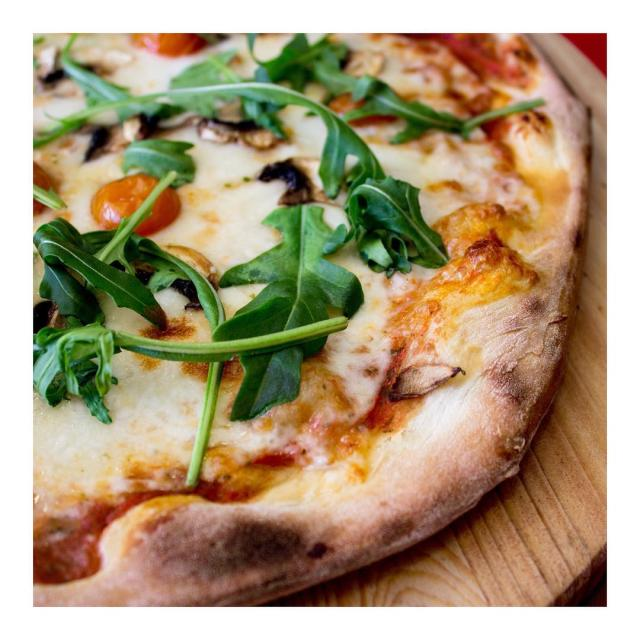mushrooms: (80, 110, 156, 164), (389, 359, 466, 402), (200, 112, 286, 148), (258, 160, 316, 206), (38, 45, 59, 87)
pizza: (32, 32, 596, 608)
tomatoes: (92, 172, 184, 231), (132, 31, 210, 56)
